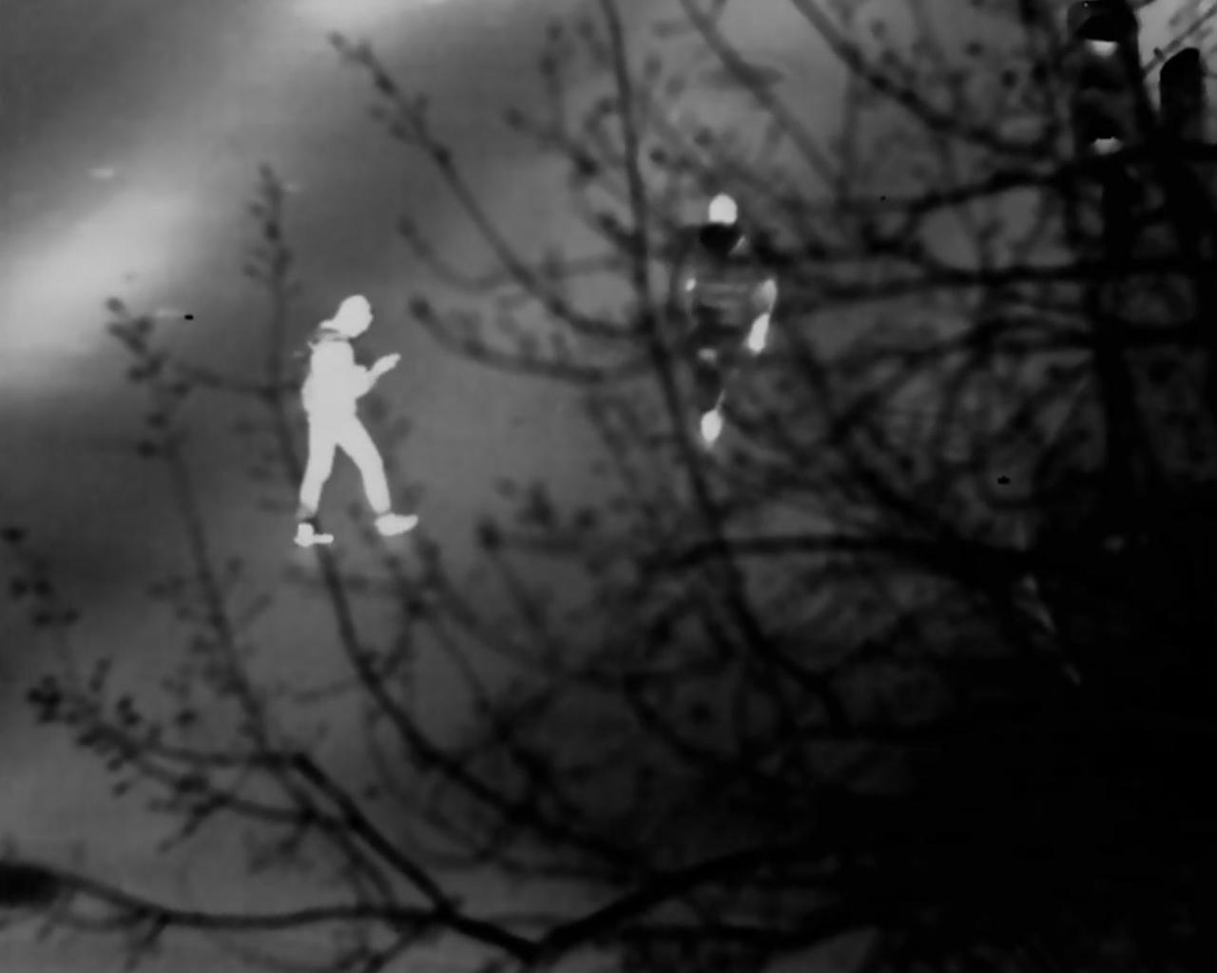person: (288, 297, 416, 544), (704, 188, 768, 399)
